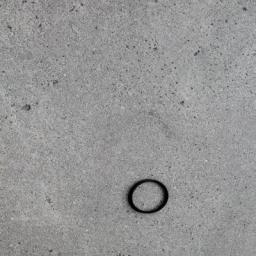FOD: (121, 177, 178, 217)
